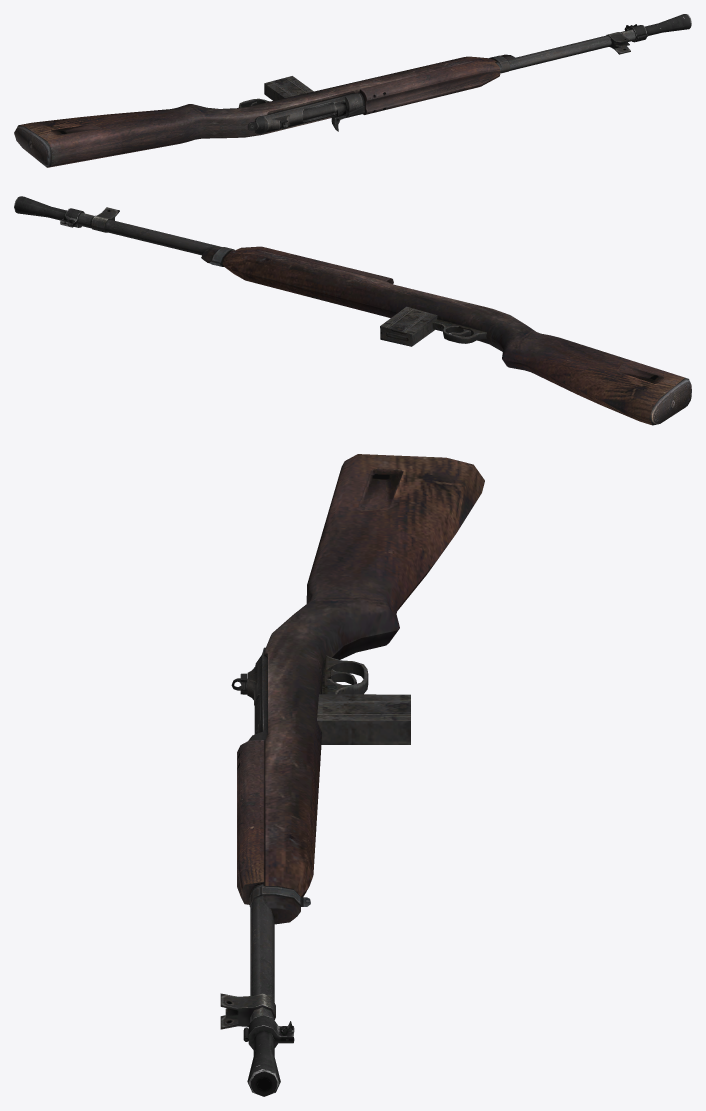
Rendered from weapon_usa_m1carbine_rifle_silent_LOD01.obj.
3 views of the same model, one above another, from view 1: azimuth 30°, elevation 25°; view 2: azimuth 150°, elevation 25°; view 3: azimuth 270°, elevation 25° (orthographic). The views are drawn at different scales.
Parts seen in each view (by area): view 1: TomGroup_1, TomGroup_0, TomGroup_2; view 2: TomGroup_1, TomGroup_0, TomGroup_2; view 3: TomGroup_1, TomGroup_0, TomGroup_2.
Boxes of the visible parts, x1,y1,x2,y2 form: TomGroup_1: [19, 54, 515, 167]; TomGroup_0: [14, 29, 635, 167]; TomGroup_2: [624, 14, 691, 42]; TomGroup_1: [201, 246, 684, 425]; TomGroup_0: [78, 207, 691, 425]; TomGroup_2: [14, 196, 84, 227]; TomGroup_1: [237, 454, 484, 924]; TomGroup_0: [220, 647, 410, 1029]; TomGroup_2: [243, 1015, 294, 1096].
Size of the model in its own units: 124 by 7.09 by 22.92.
Materials: 2 (2 with a texture image).
